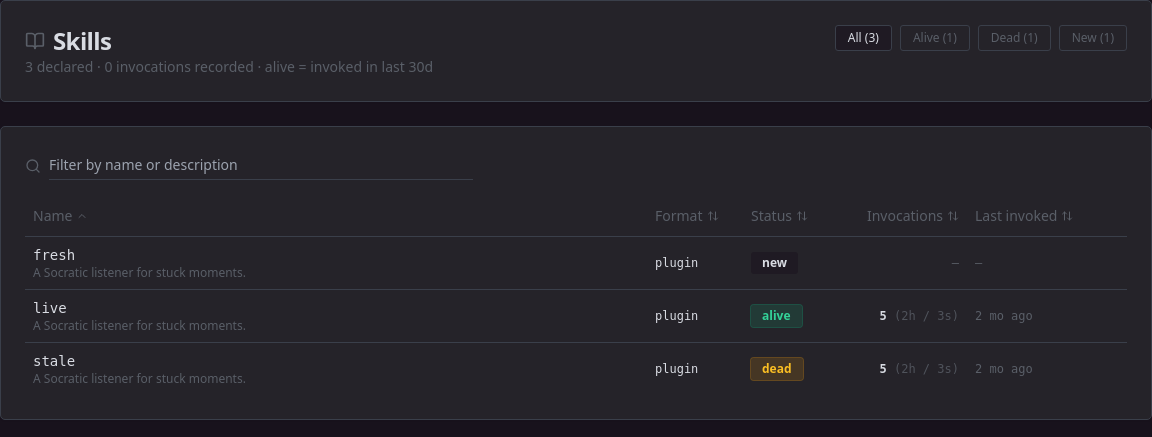
Scenario: SkillsPage › filter chips narrow the table by hygiene_status
Expected: the row with test id "skill-row-live" is shown, [25, 289, 1127, 342]
Expected: the row with test id "skill-row-stale" is shown, [25, 342, 1127, 394]
Click the button with test id "filter-alive" at (935,38), box [900, 25, 970, 51]
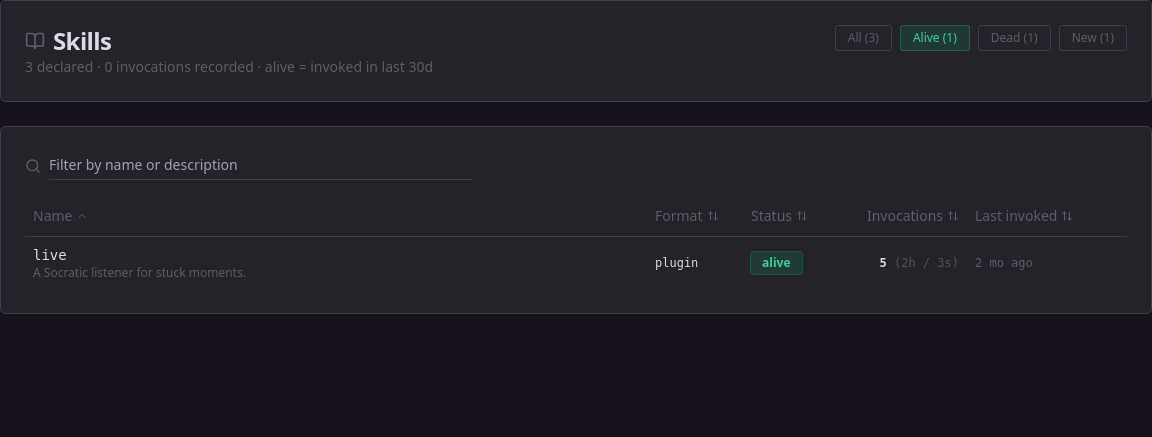
Expected: the row with test id "skill-row-live" is shown, [25, 236, 1127, 288]
Now the row with test id "skill-row-stale" is gone
Now the row with test id "skill-row-fresh" is gone
Click the button with test id "filter-dead" at (1014,38), box [978, 25, 1051, 51]
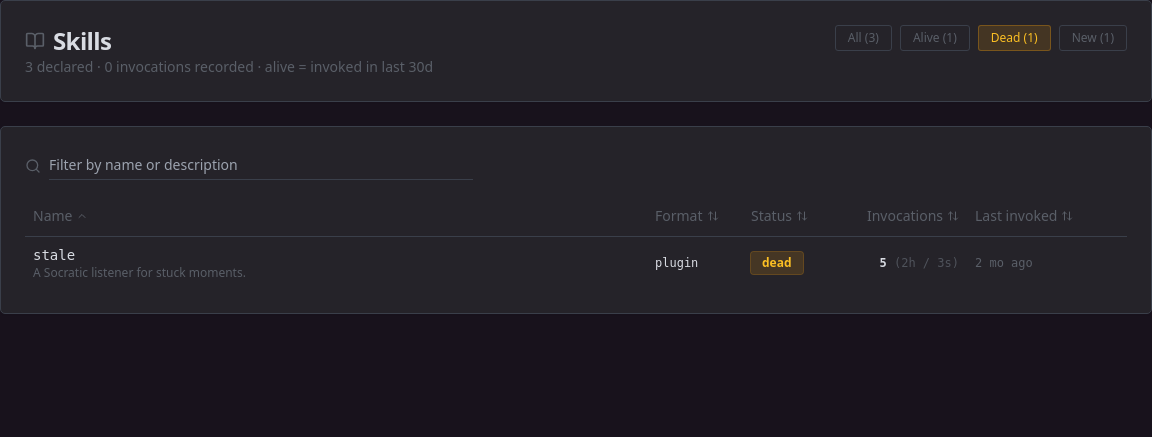
Now the row with test id "skill-row-live" is gone
Now the row with test id "skill-row-stale" is shown, box [25, 236, 1127, 288]
